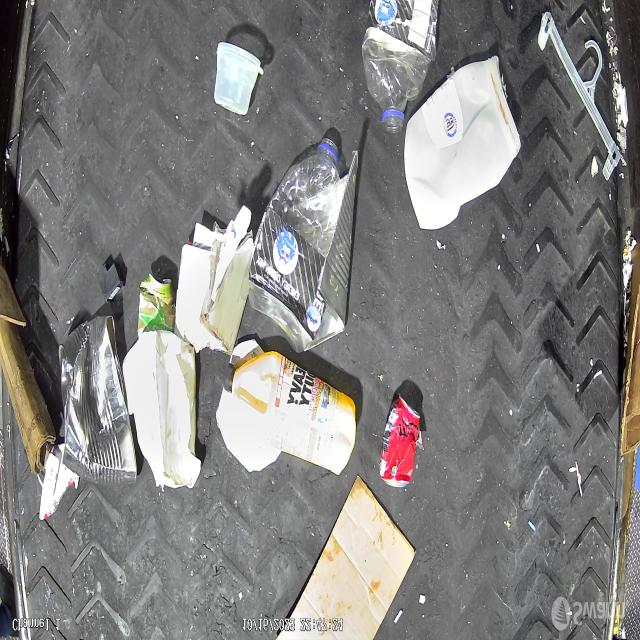can: (58, 317, 139, 484), (378, 394, 420, 488), (138, 274, 178, 335)
milk_jug: (404, 55, 522, 228)
non_white_jug: (224, 351, 356, 475)
plastic_bottle: (244, 142, 340, 356), (361, 2, 433, 134)
